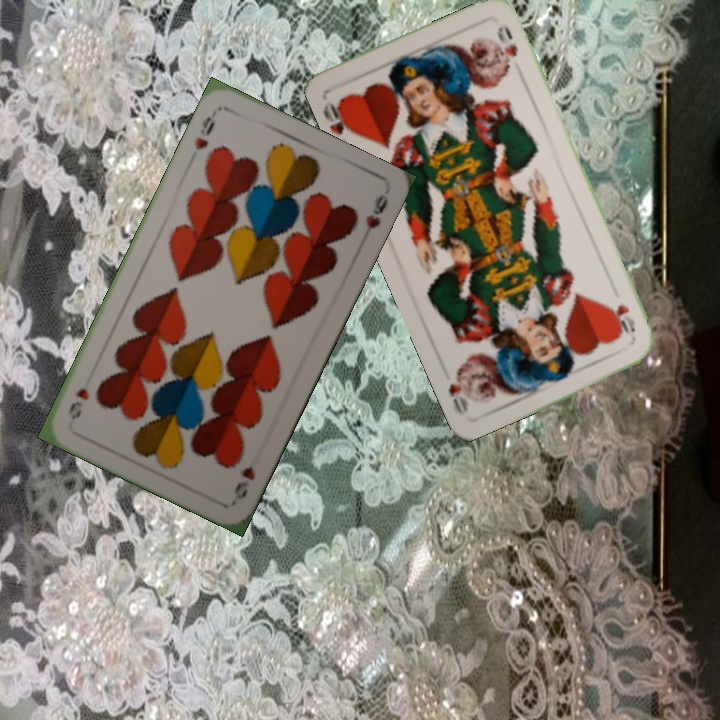H9: (230, 461, 258, 503), (190, 112, 218, 153)
HO: (319, 94, 359, 138), (607, 300, 638, 340)
